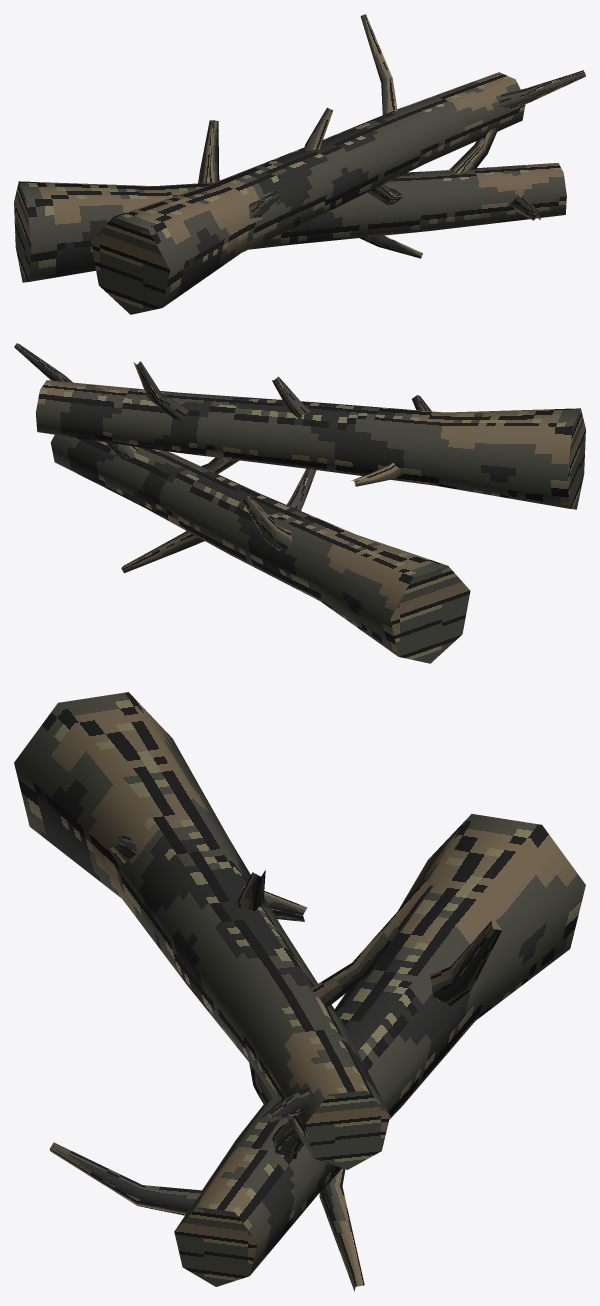
File: logs-213-12.glb
3 views of the same model, one above another, from view 1: azimuth 30°, elevation 25°; view 2: azimuth 150°, elevation 25°; view 3: azimuth 270°, elevation 25° (orthographic). The views are drawn at different scales.
Bounding box in the file's own units: 2.13 × 0.9204 × 1.24.
Materials: 1 (1 with a texture image).
